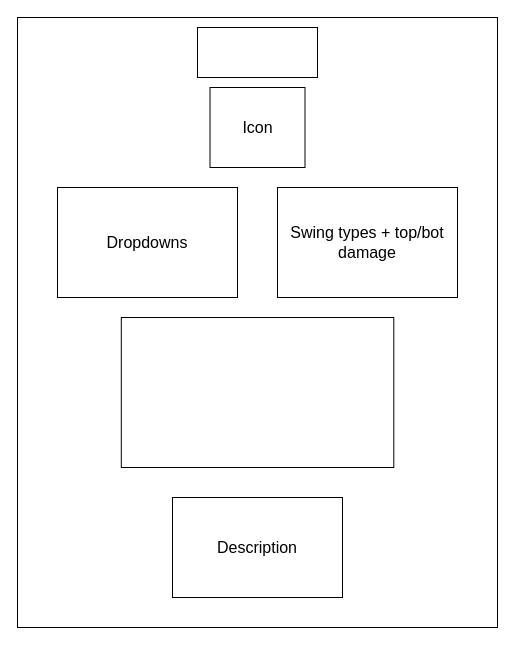
Image size: 515x645. Some labels were removed from this diagram. The shapes that lost their labels are listed below. From the top down, each one's centre as x and y in pixels, then its label:
point (257, 52): Edit Item
point (257, 392): Mods: Str, Dex, Agi, Int, Wis, Mys, Con
